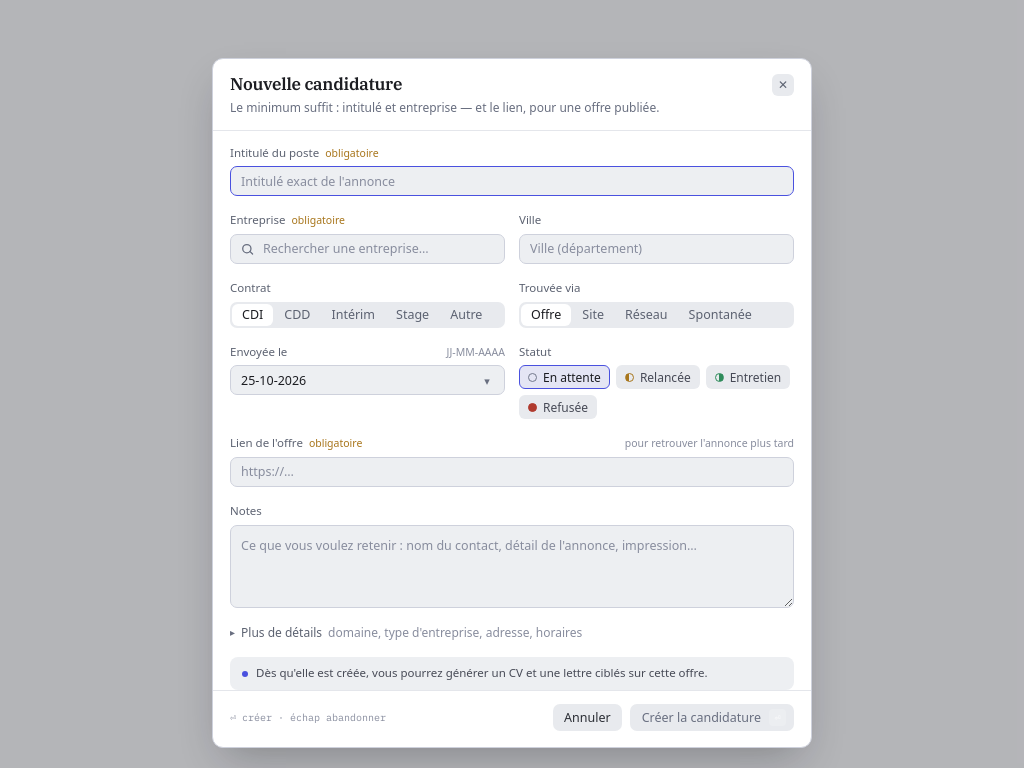
Test: Nouvelle candidature — création rapide d'entreprise › abandonne proprement la création annulée
Type "Nova Digital" into the dropdown labelled "Entreprise". click: [368, 249]
box: [230, 234, 505, 264]
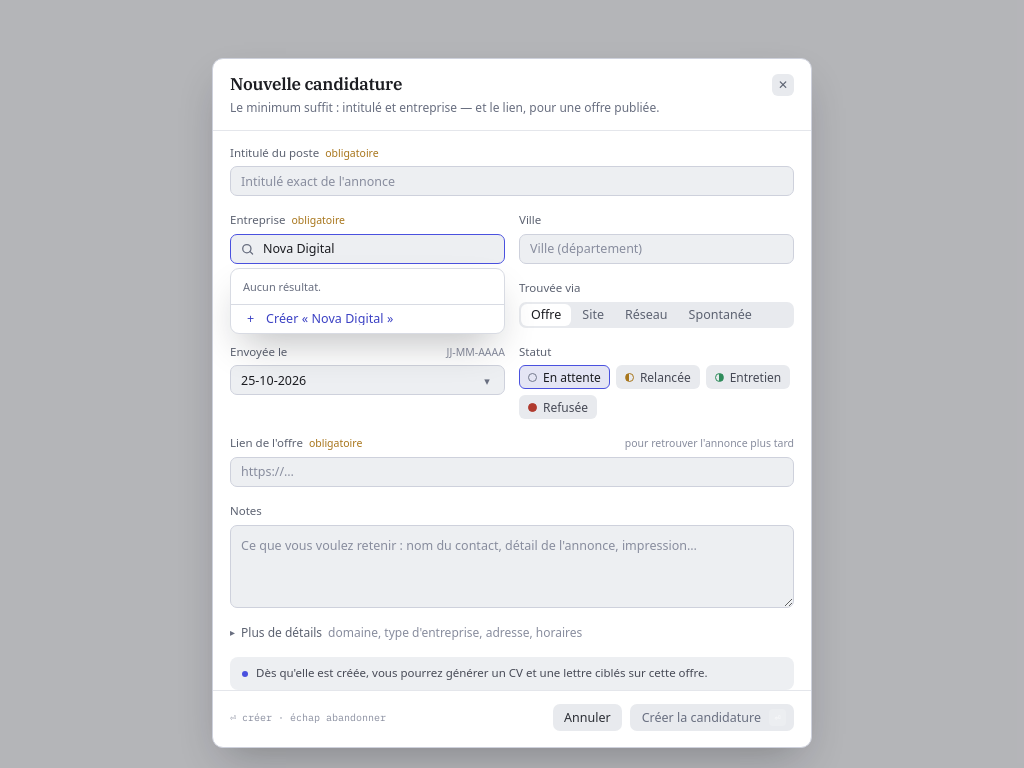
Click the button "+ Créer « Nova Digital »". click: [368, 319]
box: [231, 304, 504, 334]
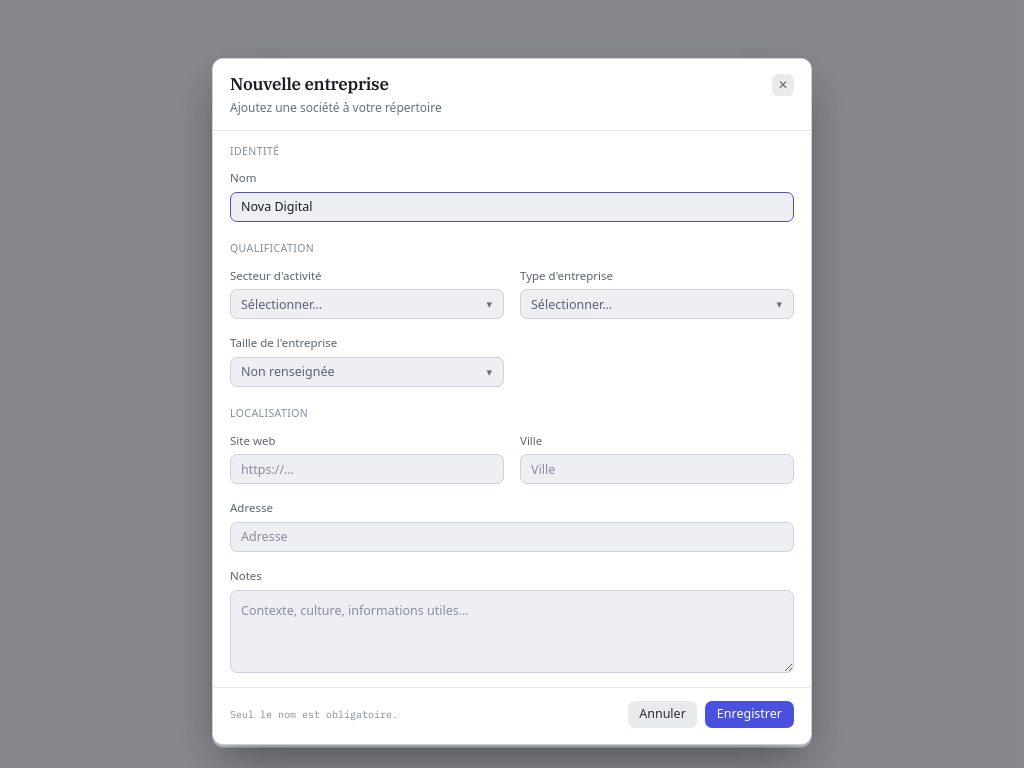
Click the button "Annuler". click: [662, 714]
box: [628, 700, 697, 728]
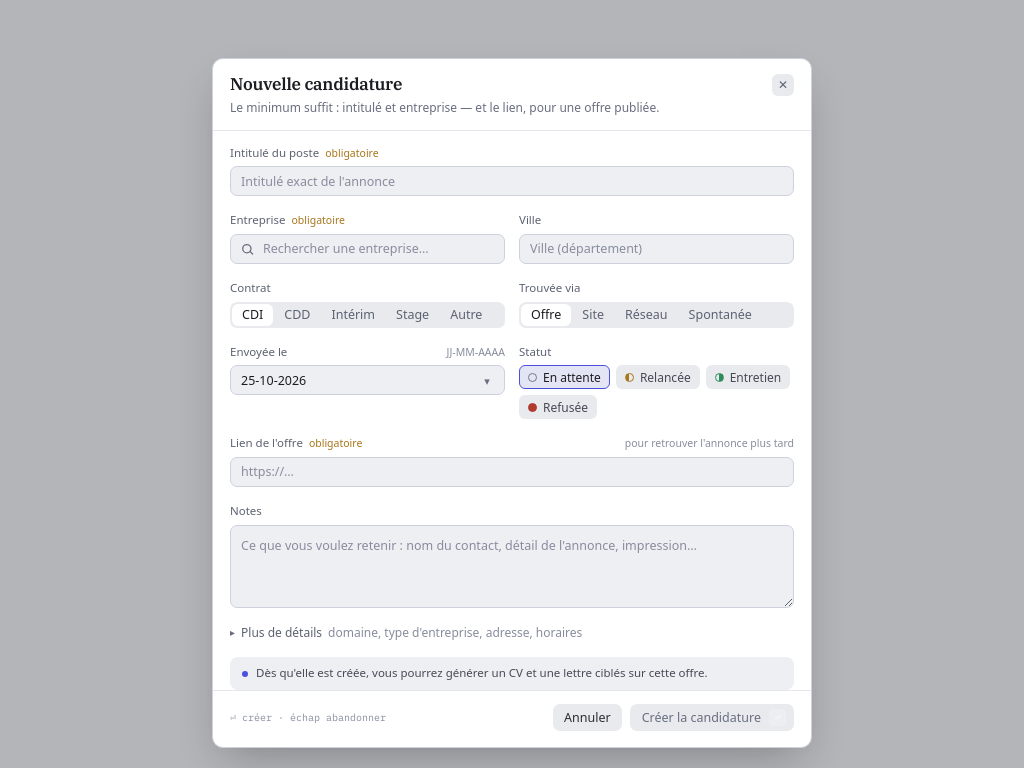
Check: the dialog "Nouvelle candidature" is shown, box [212, 58, 812, 748]
Check: the heading "Nouvelle entreprise" is gone
